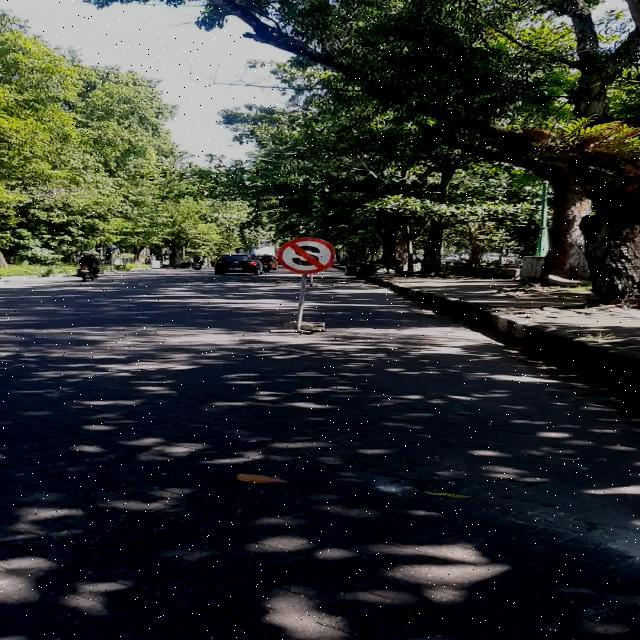Dilarang Berhenti: (278, 237, 335, 273)
